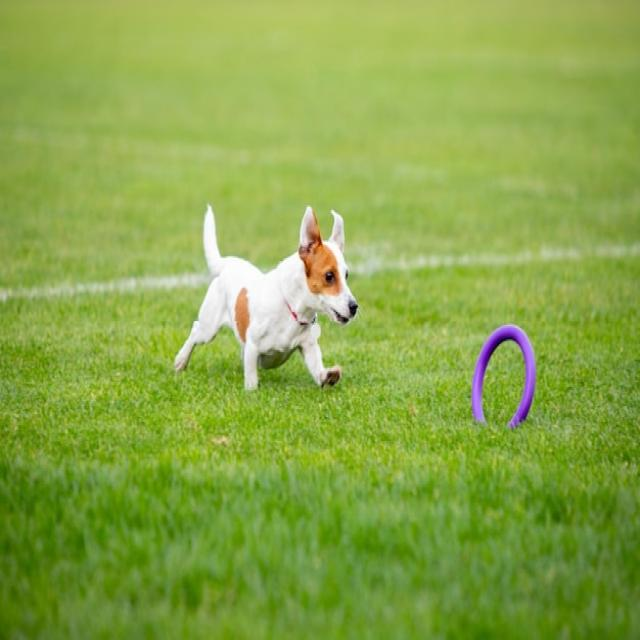Dog: (177, 203, 358, 390)
